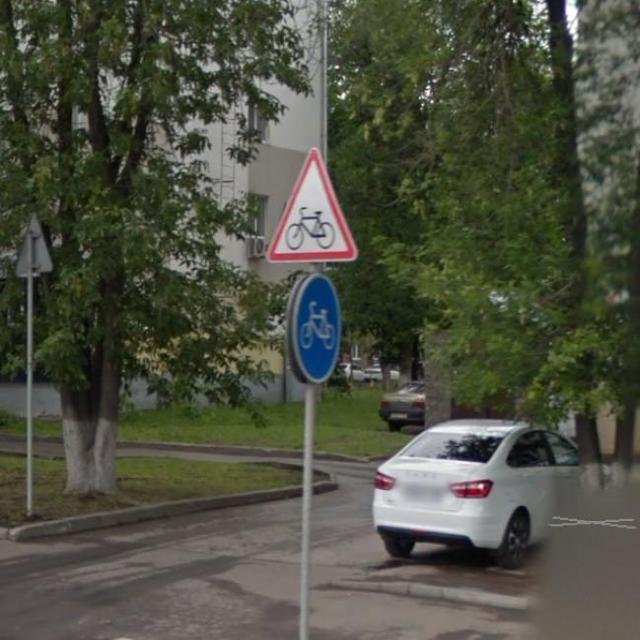traffic_sign: (263, 147, 362, 267), (291, 271, 343, 386)
